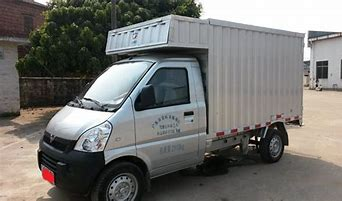smalltruck: (32, 13, 318, 199)
